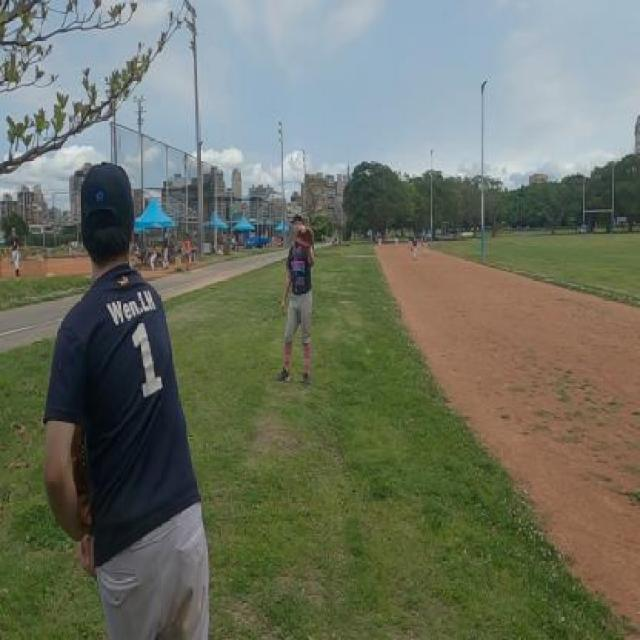baseball: (301, 224, 305, 233)
